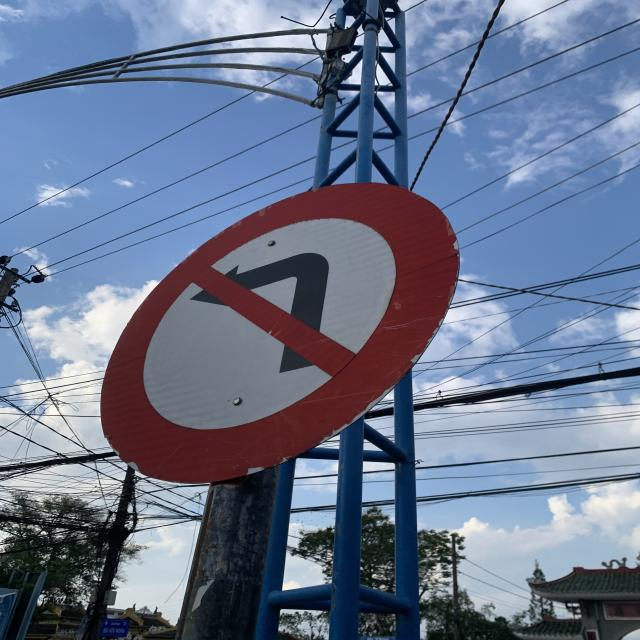Cam_Re_Trai: (99, 180, 459, 480)
